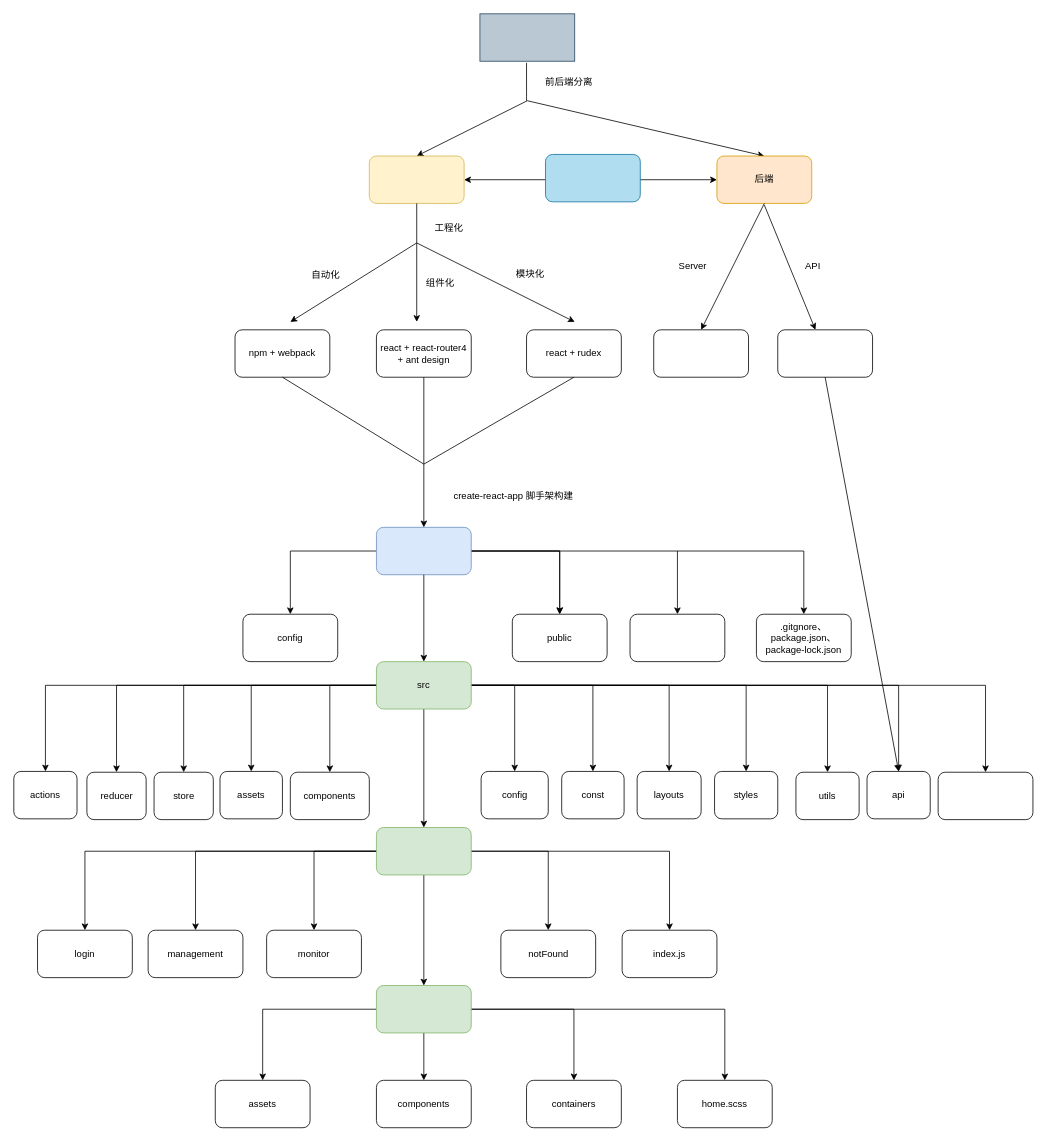
Some shapes in this 1047 by 1142 pixel diagram are drawn without their labels. Here are the shapes that lost their labels. From the top down, the centre of each, then its label:
At (x=527, y=37): "河道水闸管理系统".
At (x=416, y=179): "前端".
At (x=592, y=178): "nginx 反向代理 or axios解决跨越问题".
At (x=701, y=353): "负载均衡,本地、测试、线上".
At (x=825, y=353): "提供数据处理 + 数据接口".
At (x=423, y=551): "bdgisbase".
At (x=677, y=637): "scripts".
At (x=985, y=795): "App.js、index.js、serviceWorker".
At (x=423, y=851): "routers".
At (x=423, y=1009): "home".
